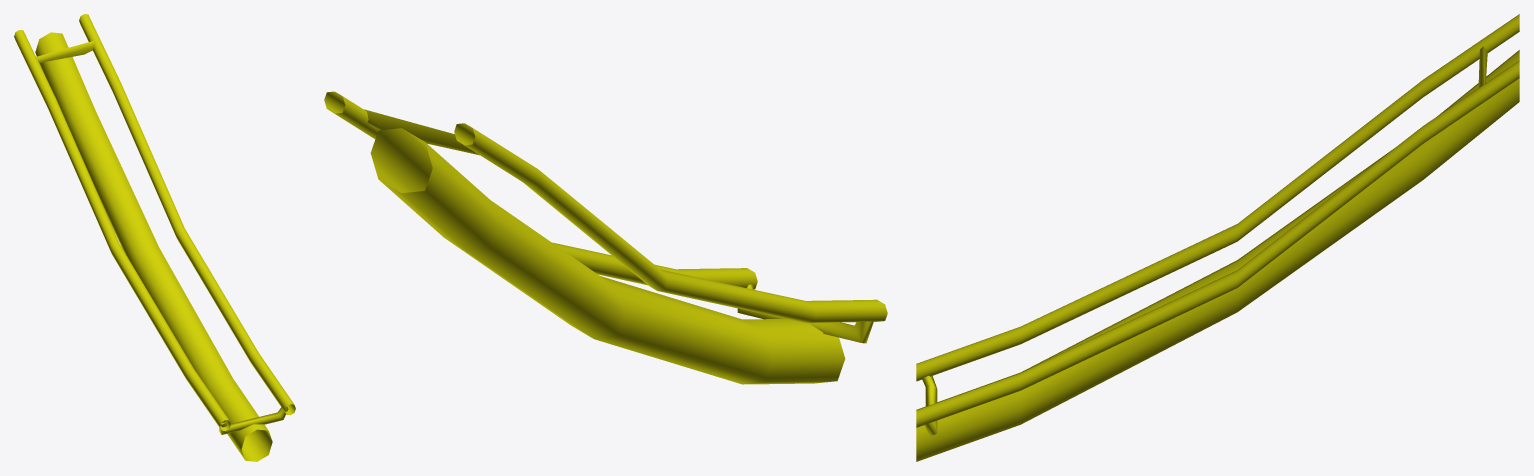
3 renders of one model, left to right at view 1: azimuth 30°, elevation 25°; view 2: azimuth 150°, elevation 25°; view 3: azimuth 270°, elevation 25°, orthographic. The views are drawn at different scales.
Visible parts, largest first — view 1: Mesh; view 2: Mesh; view 3: Mesh.
Part boxes in pixels (box(x1,y1,x2,y2)): Mesh: box(14, 14, 295, 461); Mesh: box(324, 91, 887, 384); Mesh: box(916, 14, 1519, 461).
Size of the model in its own units: 66.17 by 241 by 312.
